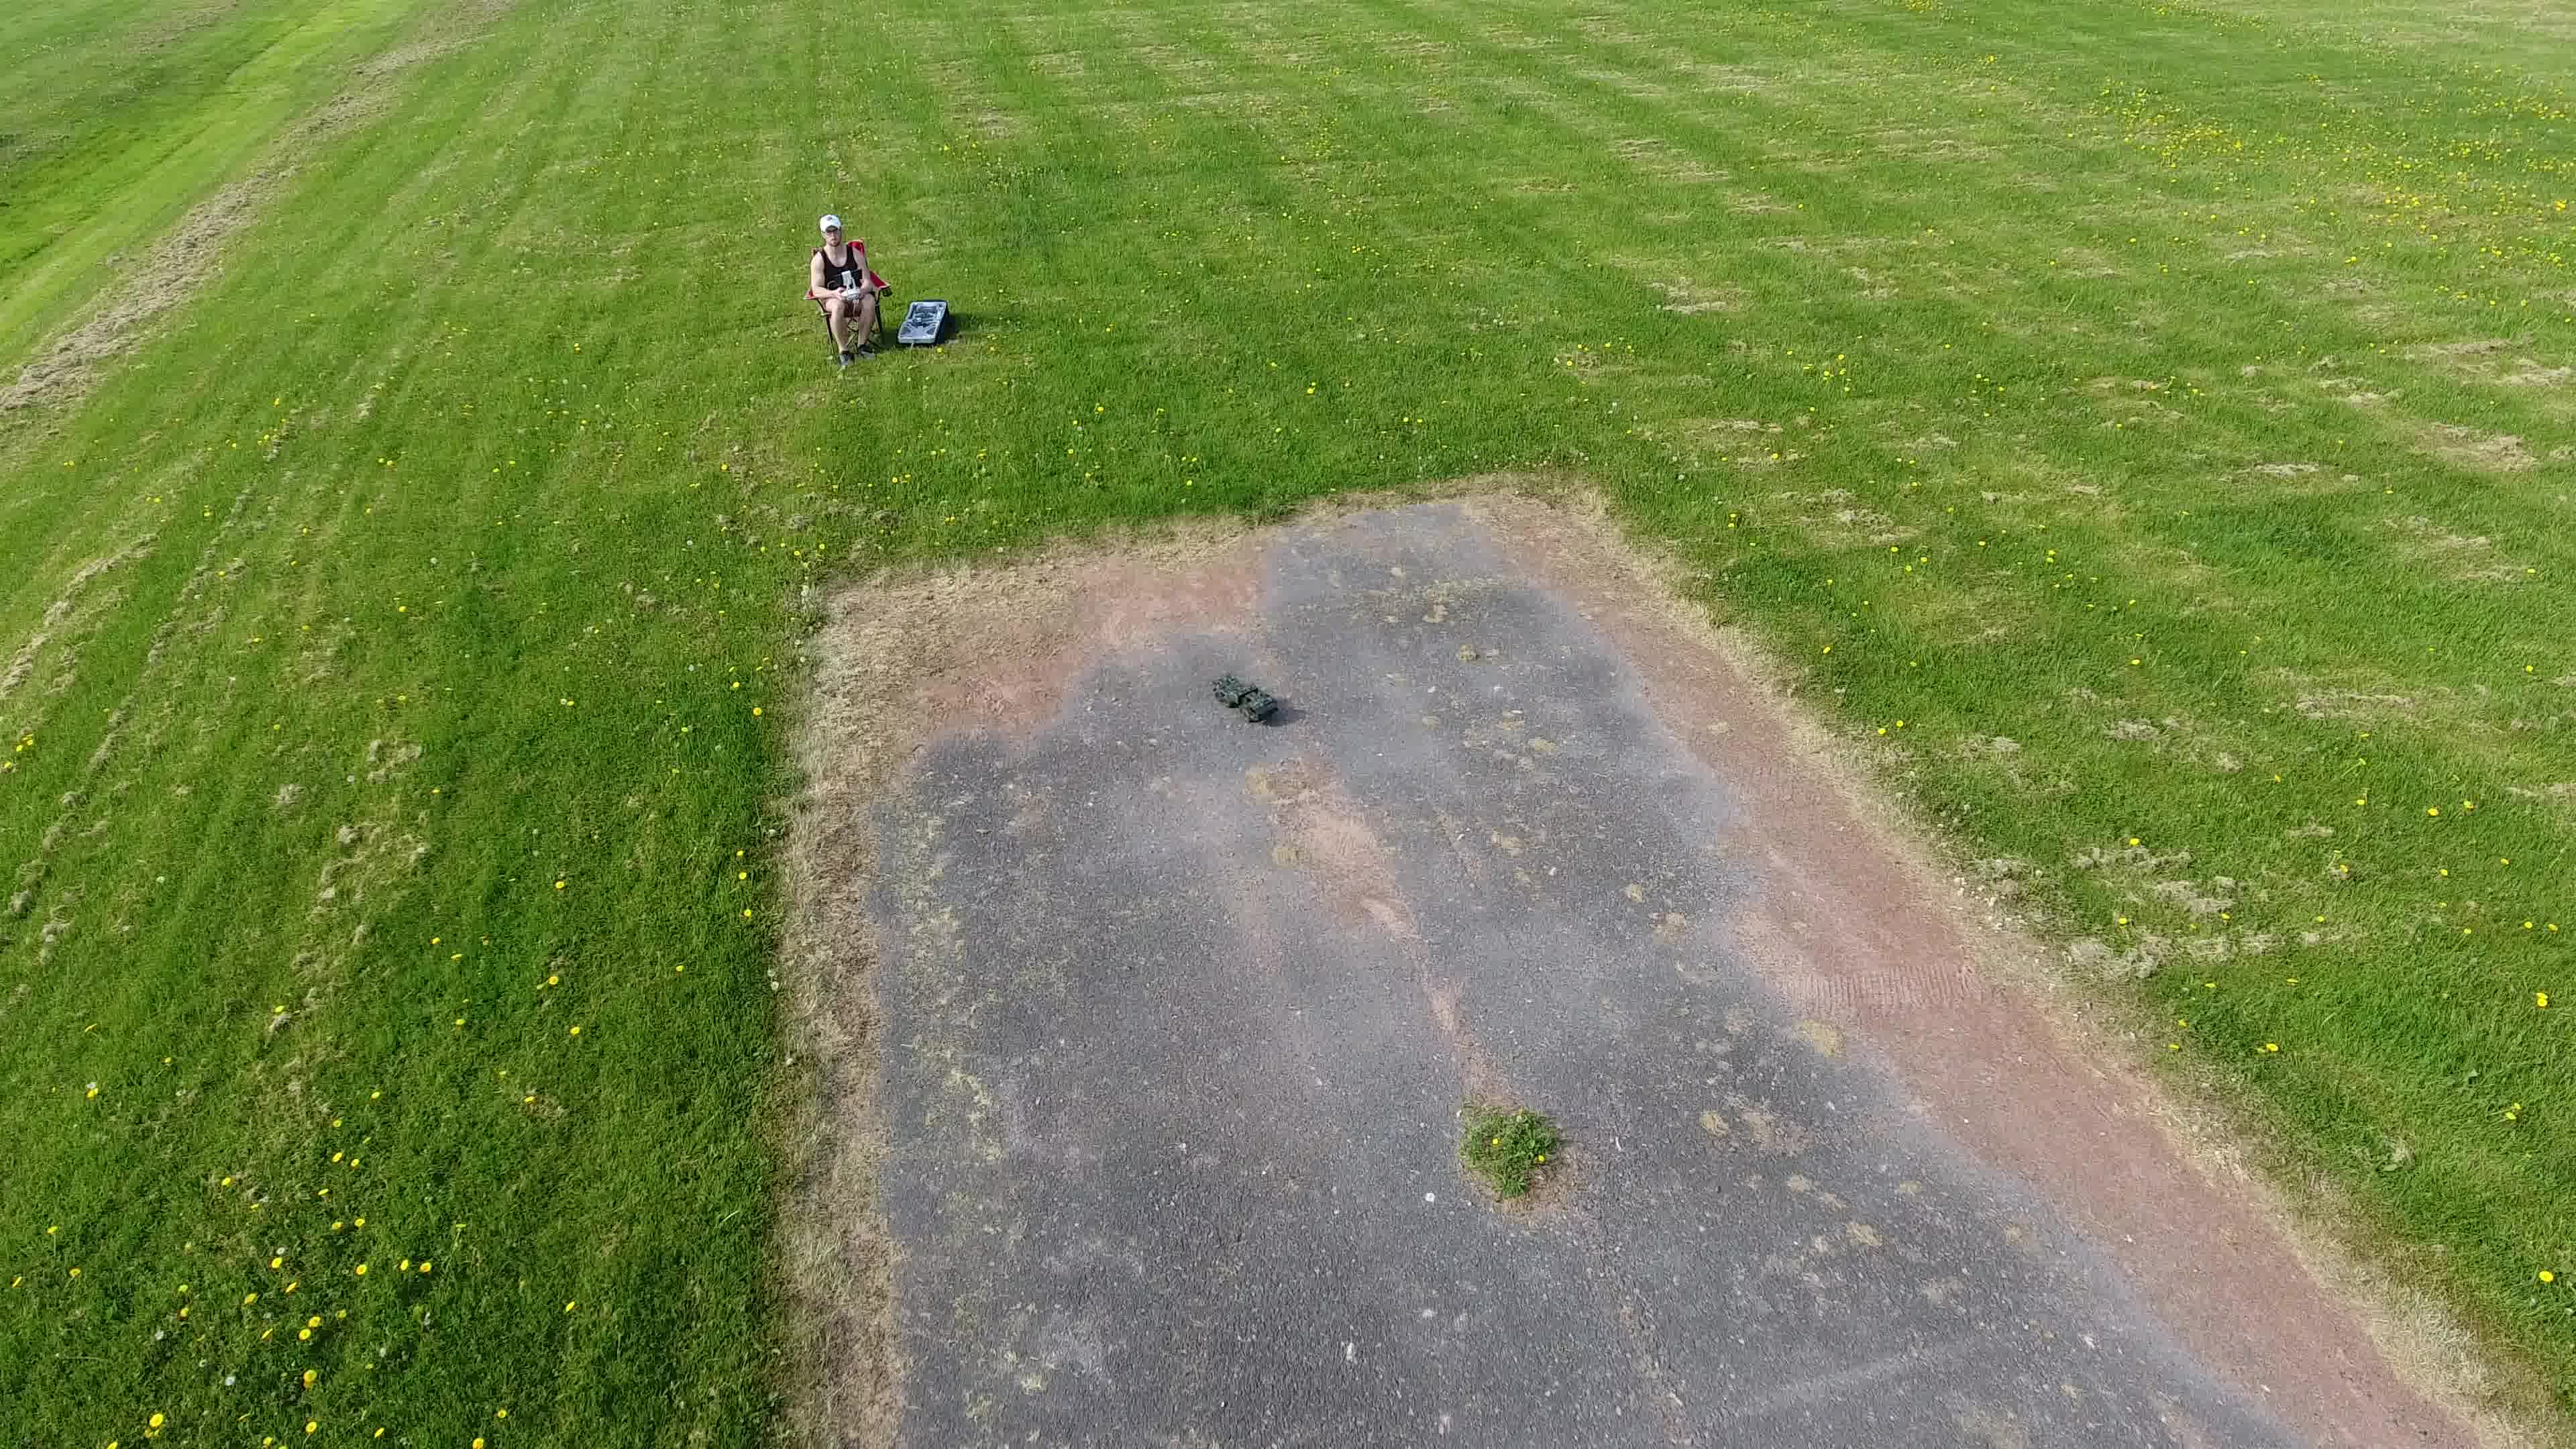transporter9_camo: (1208, 671, 1281, 725)
